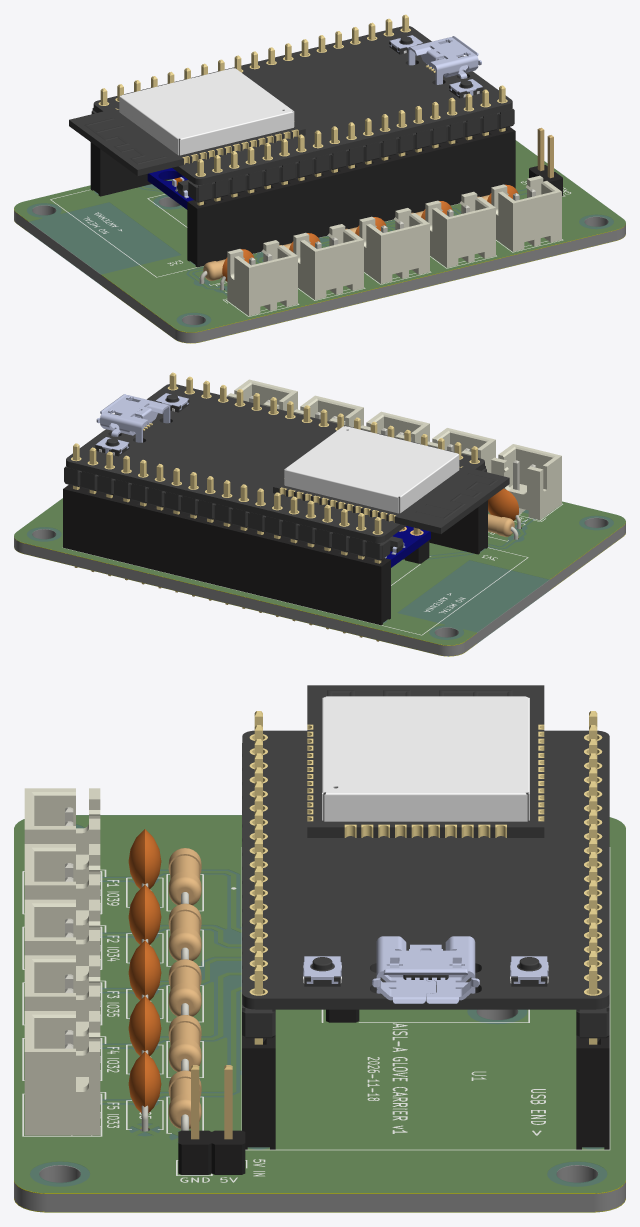
The model's file is aisl_glove_carrier_assembled.glb.
3 views of the same model, one above another, from view 1: azimuth 30°, elevation 25°; view 2: azimuth 150°, elevation 25°; view 3: azimuth 270°, elevation 25° (orthographic). The views are drawn at different scales.
Visible parts, largest first — view 1: =>[0:1:1:13], U1 (×2), NAUO1, NAUO4, =>[0:1:1:10], =>[0:1:1:15], NAUO3, J1, J4, J5, J2, J3 (+6 smaller); view 2: U1 (×2), NAUO1, =>[0:1:1:13], NAUO4, =>[0:1:1:15], =>[0:1:1:10], NAUO2, J1, NAUO5, NAUO3, U2 (×2), J2 (+7 smaller); view 3: =>[0:1:1:13], =>[0:1:1:10], NAUO1, NAUO4, =>[0:1:1:15], J5, U1 (×2), =>[0:1:1:11], NAUO5, J3, J2, J1 (+16 smaller).
Part boxes in pixels (x1=…): =>[0:1:1:13]: x1=14, y1=140, x2=625, y2=332; U1 (×2): x1=90, y1=126, x2=515, y2=267; NAUO1: x1=93, y1=26, x2=512, y2=184; NAUO4: x1=69, y1=68, x2=305, y2=176; =>[0:1:1:10]: x1=14, y1=141, x2=625, y2=343; =>[0:1:1:15]: x1=14, y1=180, x2=625, y2=342; NAUO3: x1=188, y1=85, x2=514, y2=205; J1: x1=227, y1=240, x2=297, y2=316; J4: x1=425, y1=191, x2=495, y2=267; J5: x1=491, y1=175, x2=561, y2=251; J2: x1=293, y1=224, x2=363, y2=299; J3: x1=359, y1=208, x2=429, y2=283; U1 (×2): x1=63, y1=485, x2=487, y2=641; NAUO1: x1=66, y1=384, x2=484, y2=542; =>[0:1:1:13]: x1=14, y1=498, x2=625, y2=645; NAUO4: x1=273, y1=426, x2=509, y2=533; =>[0:1:1:15]: x1=14, y1=510, x2=625, y2=656; =>[0:1:1:10]: x1=14, y1=499, x2=625, y2=656; NAUO2: x1=64, y1=443, x2=390, y2=563; J1: x1=491, y1=444, x2=561, y2=519; NAUO5: x1=96, y1=394, x2=170, y2=442; NAUO3: x1=169, y1=372, x2=486, y2=471; U2 (×2): x1=385, y1=526, x2=430, y2=567; J2: x1=427, y1=428, x2=495, y2=472; =>[0:1:1:13]: x1=14, y1=815, x2=625, y2=1193; =>[0:1:1:10]: x1=14, y1=816, x2=625, y2=1212; NAUO1: x1=242, y1=730, x2=609, y2=1009; NAUO4: x1=307, y1=685, x2=544, y2=837; =>[0:1:1:15]: x1=14, y1=825, x2=625, y2=1211; J5: x1=24, y1=1011, x2=100, y2=1135; U1 (×2): x1=242, y1=1035, x2=609, y2=1149; =>[0:1:1:11]: x1=22, y1=847, x2=610, y2=1182; NAUO5: x1=372, y1=936, x2=479, y2=1003; J3: x1=24, y1=899, x2=100, y2=995; J2: x1=24, y1=844, x2=100, y2=939; J1: x1=24, y1=788, x2=100, y2=883.
Size of the model in its own units: 0.068 by 0.0193 by 0.0465.
